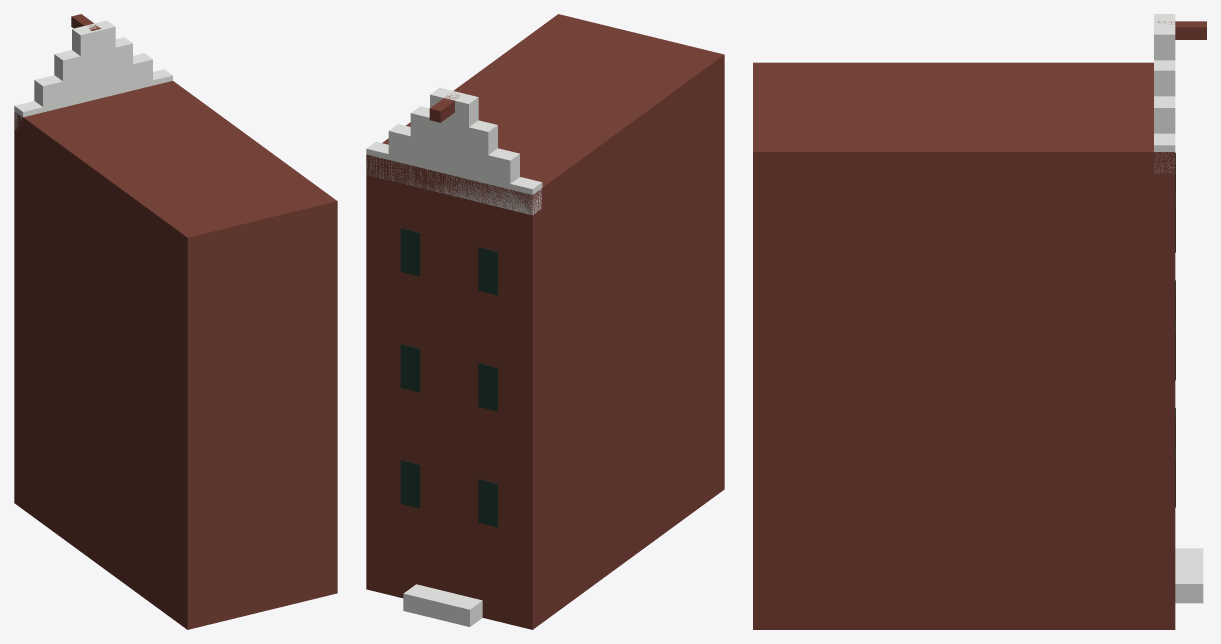
The model's file is d-nl-01-gabled-canal-house.glb.
3 renders of one model, left to right at view 1: azimuth 30°, elevation 25°; view 2: azimuth 150°, elevation 25°; view 3: azimuth 270°, elevation 25°, orthographic. The views are drawn at different scales.
Parts seen in each view (by area): view 1: part0, part2, part3, part1, part4; view 2: part0, part1, part2, part3, part12, part4, part7, part9, part11, part6, part8, part10 (+1 smaller); view 3: part0, part12, part4, part2, part3, part5.
Part boxes in pixels (x1=…): part0: x1=14, y1=81, x2=337, y2=629; part2: x1=34, y1=53, x2=152, y2=106; part3: x1=54, y1=37, x2=132, y2=83; part1: x1=14, y1=69, x2=172, y2=129; part4: x1=72, y1=20, x2=115, y2=56; part0: x1=366, y1=14, x2=724, y2=629; part1: x1=366, y1=141, x2=542, y2=215; part2: x1=388, y1=124, x2=519, y2=186; part3: x1=410, y1=106, x2=497, y2=157; part12: x1=403, y1=584, x2=482, y2=626; part4: x1=430, y1=87, x2=478, y2=129; part7: x1=400, y1=460, x2=420, y2=508; part9: x1=400, y1=344, x2=420, y2=392; part11: x1=400, y1=228, x2=420, y2=276; part6: x1=478, y1=479, x2=497, y2=527; part8: x1=478, y1=363, x2=497, y2=411; part10: x1=478, y1=247, x2=497, y2=295; part0: x1=753, y1=62, x2=1175, y2=629; part12: x1=1175, y1=548, x2=1203, y2=603; part4: x1=1154, y1=14, x2=1175, y2=60; part2: x1=1154, y1=96, x2=1175, y2=133; part3: x1=1154, y1=60, x2=1175, y2=96; part5: x1=1157, y1=21, x2=1206, y2=39.
Size of the model in its own units: 6000 by 17600 by 12900.
